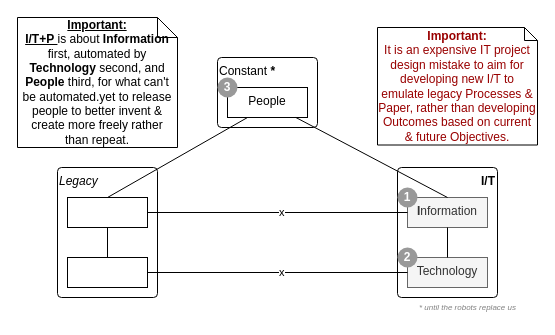
The diagram is 555 pixels wide and 335 high, and some of its shapes have lost their labels. The centre of each missing label's shape, as x and y in pixels:
Paper: the point at 107,212
Processes: the point at 107,272
